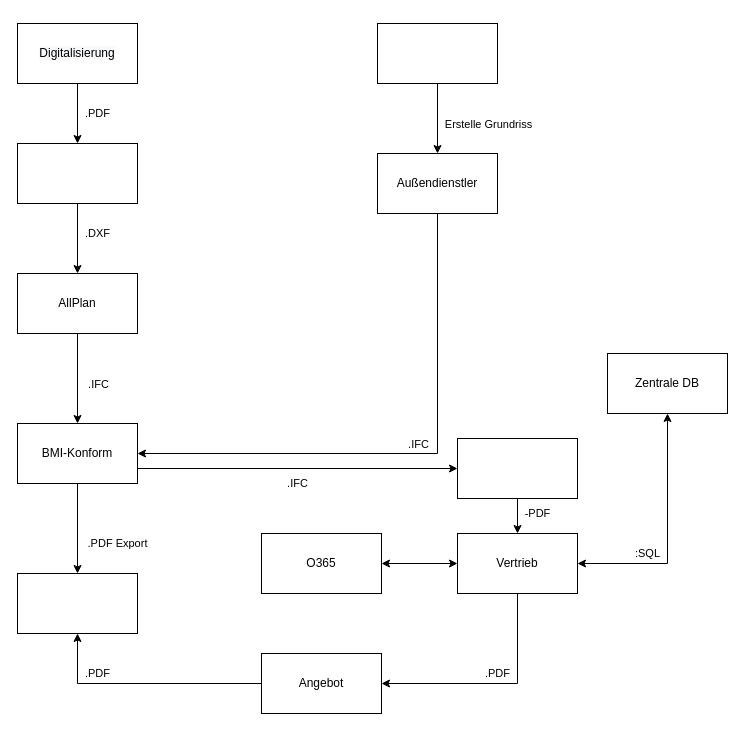
This 745x731 diagram has some shape labels left out. The centre of each missing label's shape, as x and y in pixels:
"Bearbeiter" goes at point 517,468.
"Erstellung Vektorgraphic" goes at point 77,173.
"Kein Grundriss vorhanden" goes at point 437,53.
"Kunde" goes at point 77,603.
